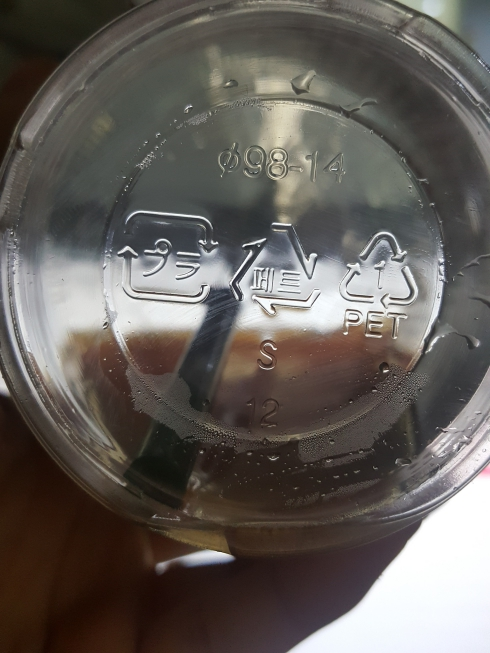recycle: (337, 218, 422, 345)
